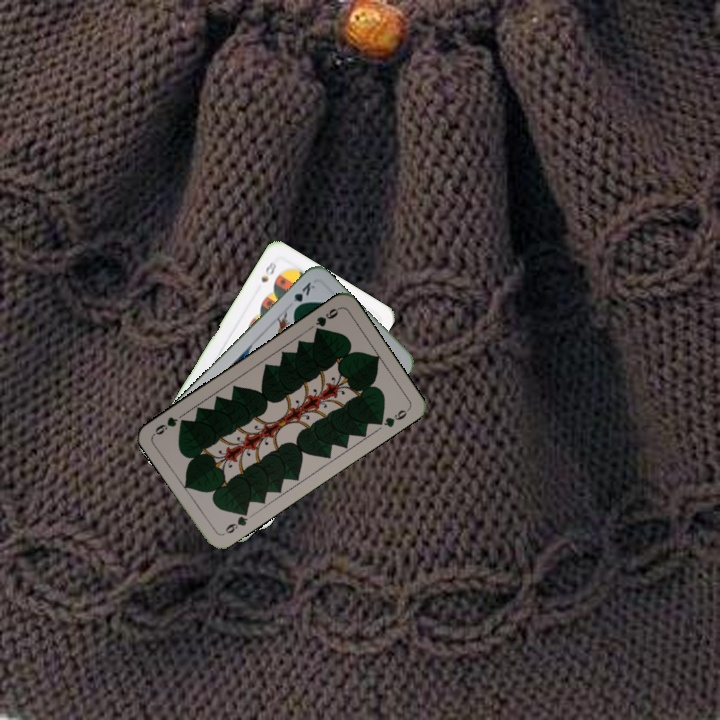G9: (310, 303, 342, 336), (219, 505, 251, 538)
GK: (287, 278, 318, 314)
S8: (257, 257, 279, 285)
